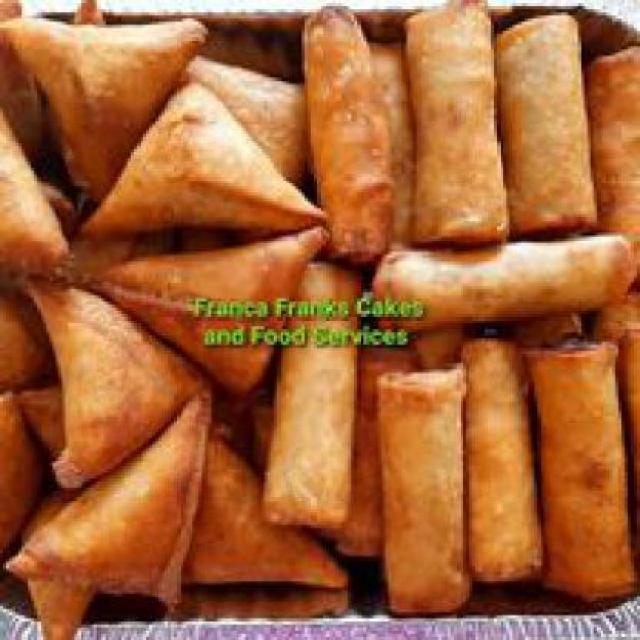spring rolls: (289, 3, 631, 615)
